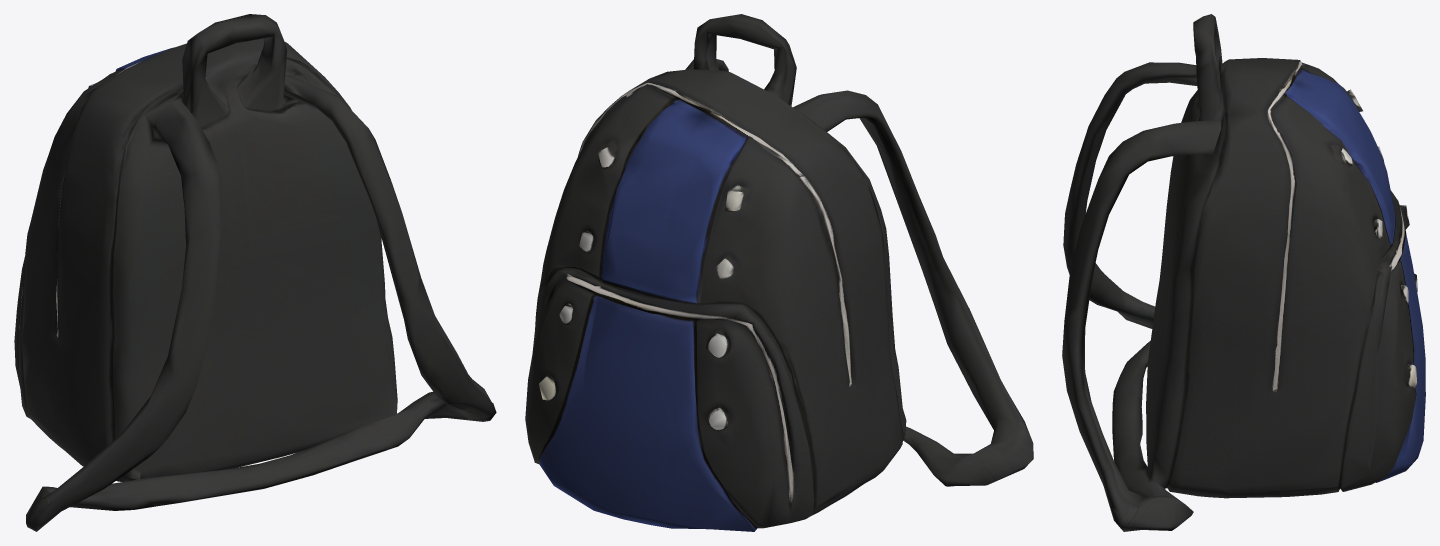
File: zaino4_accessory.fbx
3 views of the same model, side by side, from view 1: azimuth 30°, elevation 25°; view 2: azimuth 150°, elevation 25°; view 3: azimuth 270°, elevation 25° (orthographic). The views are drawn at different scales.
Visible parts, largest first — view 1: Zaino4Handle; view 2: Zaino4Handle; view 3: Zaino4Handle.
Boxes of the visible parts, <box> form: Zaino4Handle: <box>14,14,496,531</box>; Zaino4Handle: <box>525,14,1033,531</box>; Zaino4Handle: <box>1062,14,1425,531</box>.
Bounding box in the file's own units: 2.14 × 1.9 × 1.5.
Materials: 1 (1 with a texture image).
